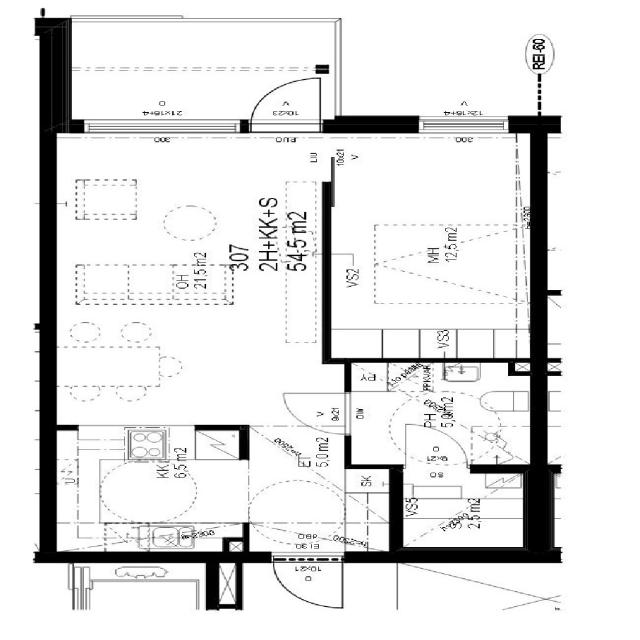door: (54, 136, 330, 425), (246, 68, 330, 130), (268, 554, 348, 613), (269, 387, 357, 435), (397, 422, 472, 469)
window: (76, 118, 240, 139), (406, 110, 522, 137), (333, 386, 363, 439)
zone: (327, 128, 532, 368), (67, 430, 248, 553), (345, 359, 537, 468), (241, 464, 386, 558)
